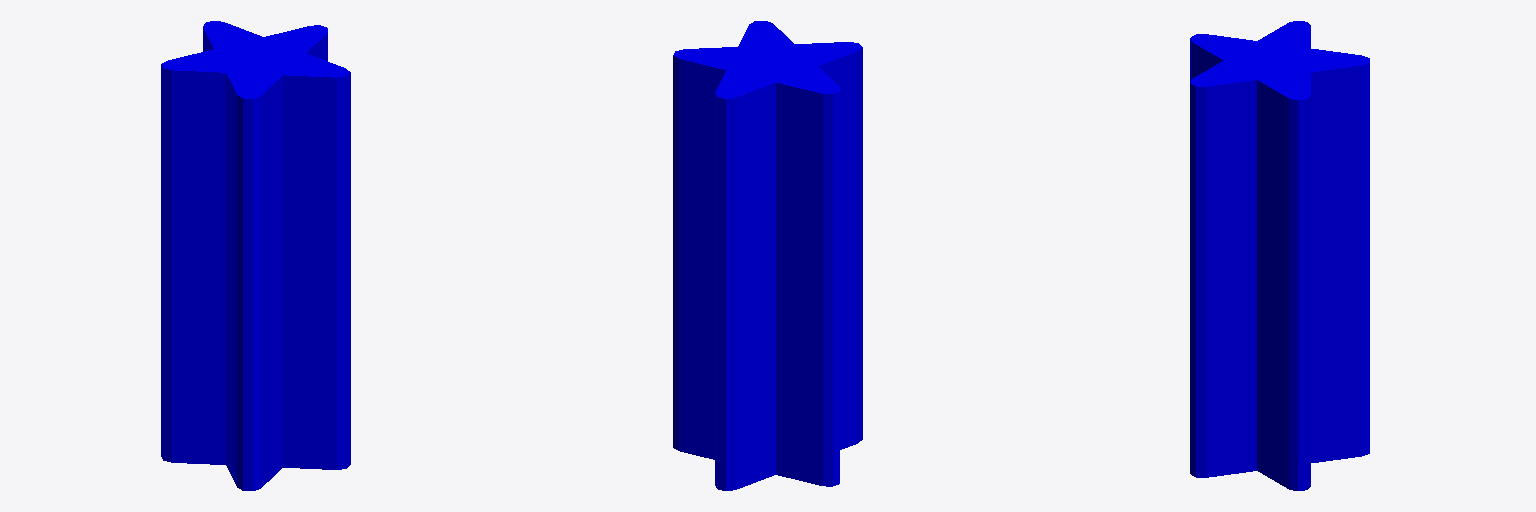
robot.urdf — Medium_Short_Star_DarkBlue:
<?xml version="1.0"?>
<robot name="Medium_Short_Star_DarkBlue">
    <link name="Medium_Short_Star_DarkBlue">
        <visual>
            <geometry>
                <mesh filename="../mesh/factory_insertion/Medium_Short_Star_DarkBlue.obj" scale="0.001 0.001 0.001"/>
            </geometry>
            <material name="DarkBlue">
              <color rgba="0 0 1.0 0"/>
            </material>
        </visual>
        <collision>
            <geometry>
                <mesh filename="../mesh/factory_insertion/Medium_Short_Star_DarkBlue.obj" scale="0.001 0.001 0.001"/>
            </geometry>
            <sdf resolution="512"/>
        </collision>
    </link>
</robot>

--- Render facts (derived) ---
The picture shows the robot from 3 angles, left to right: view 1: azimuth 30°, elevation 25°; view 2: azimuth 150°, elevation 25°; view 3: azimuth 270°, elevation 25°; orthographic projection.
Robot: Medium_Short_Star_DarkBlue — 1 links, 0 joints (none); root link Medium_Short_Star_DarkBlue; default pose: all joints at 0.
Links seen in each view (by area): view 1: Medium_Short_Star_DarkBlue; view 2: Medium_Short_Star_DarkBlue; view 3: Medium_Short_Star_DarkBlue.
Boxes of the visible links, left/top/right/bottom form: Medium_Short_Star_DarkBlue: left=161, top=21, right=350, bottom=490; Medium_Short_Star_DarkBlue: left=673, top=21, right=862, bottom=490; Medium_Short_Star_DarkBlue: left=1190, top=21, right=1369, bottom=490.
Size in the robot's own frame: 0.0439 by 0.0418 by 0.1 metres.
Meshes: 1 distinct files referenced, 1 mesh visuals loaded (1 OBJ).
